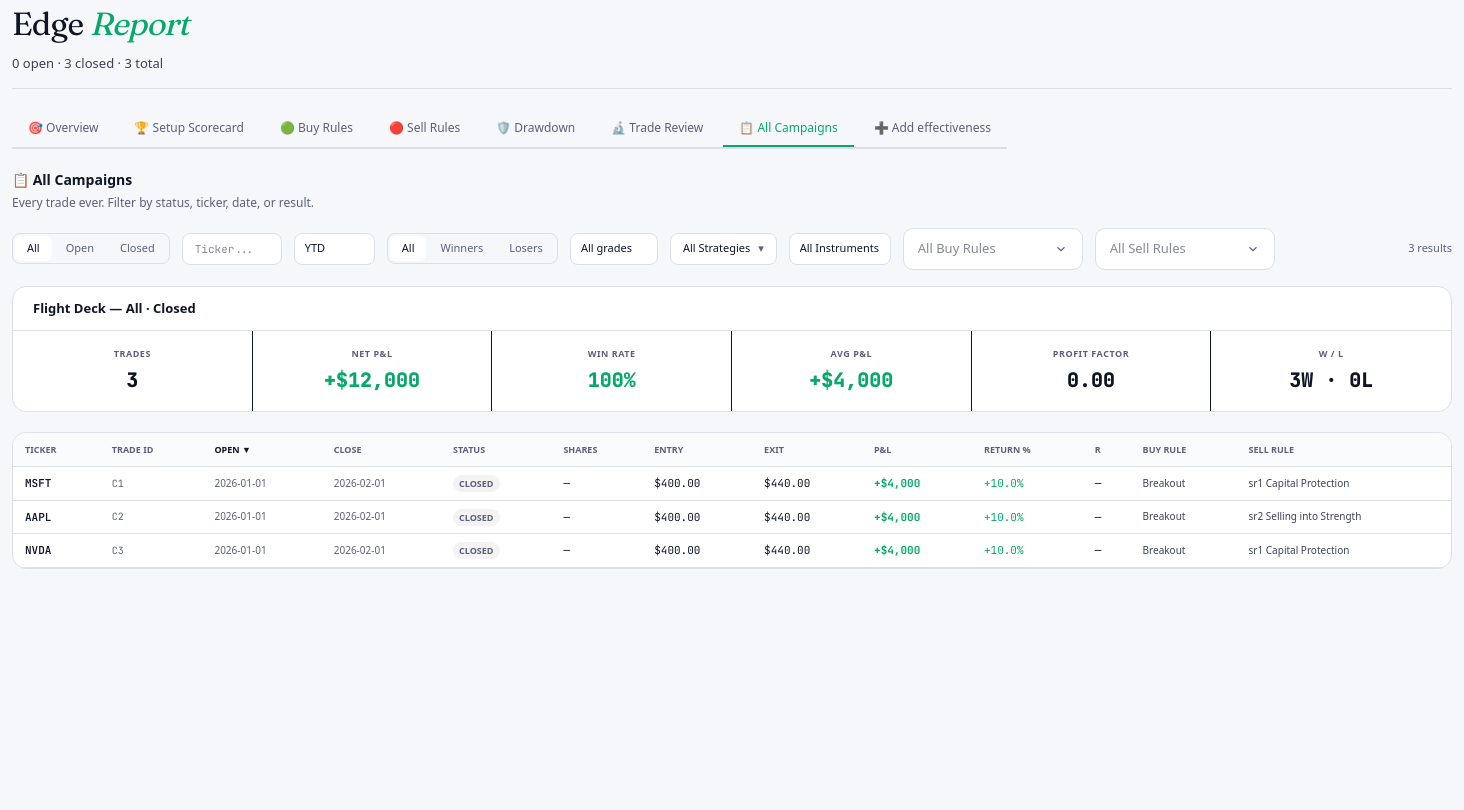
Analytics — All Campaigns filters › Sell Rule filter narrows visible rows
Expected: the text "MSFT" is shown, [13,466,100,500]
Note: Sell Rule filter is a SearchSelect (see Buy Rule note above).
Click the button "All Sell Rules".
click(1185, 248)  # box [1095,228,1275,270]
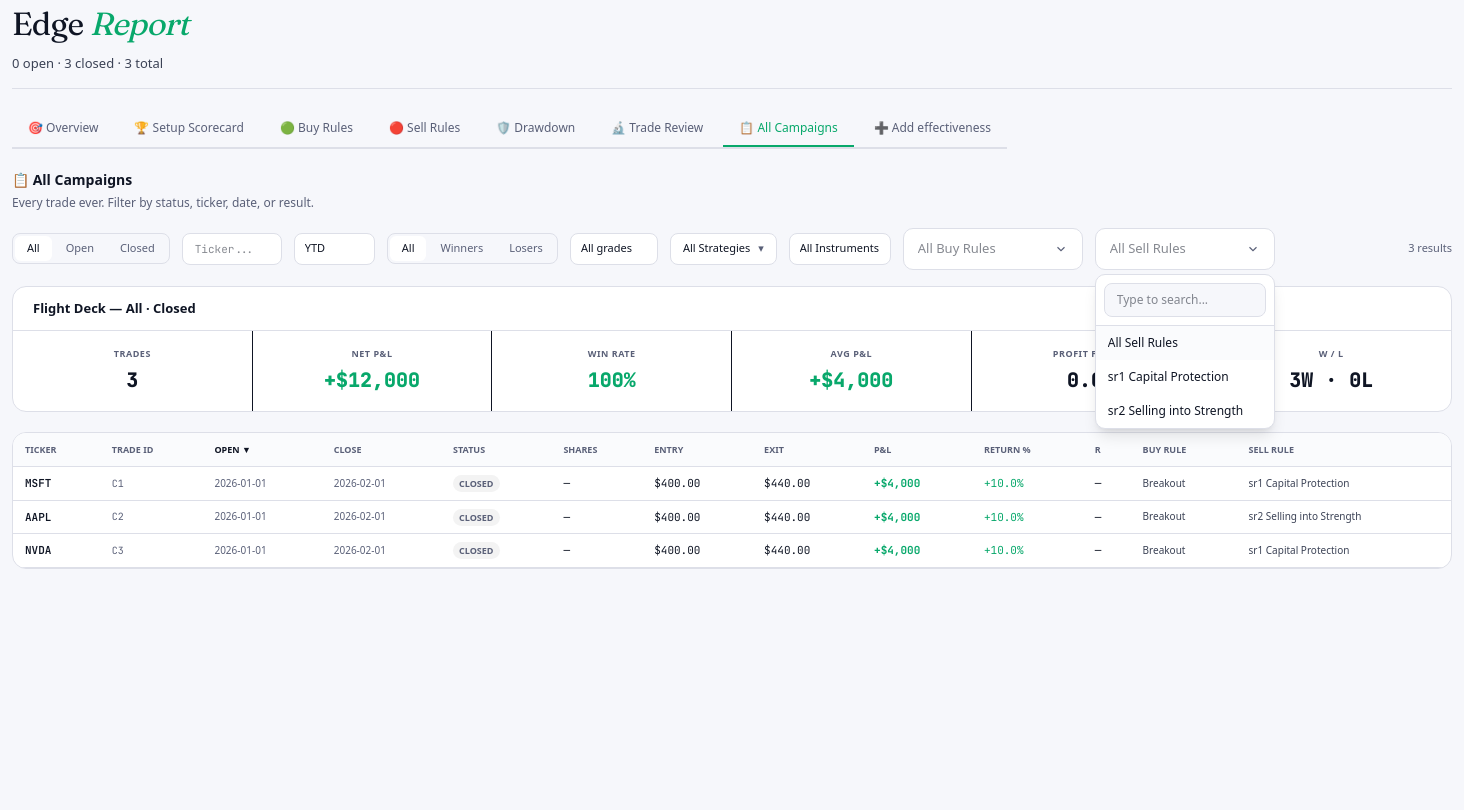
Click the button "sr1 Capital Protection".
click(1185, 376)  # box [1096,360,1274,394]
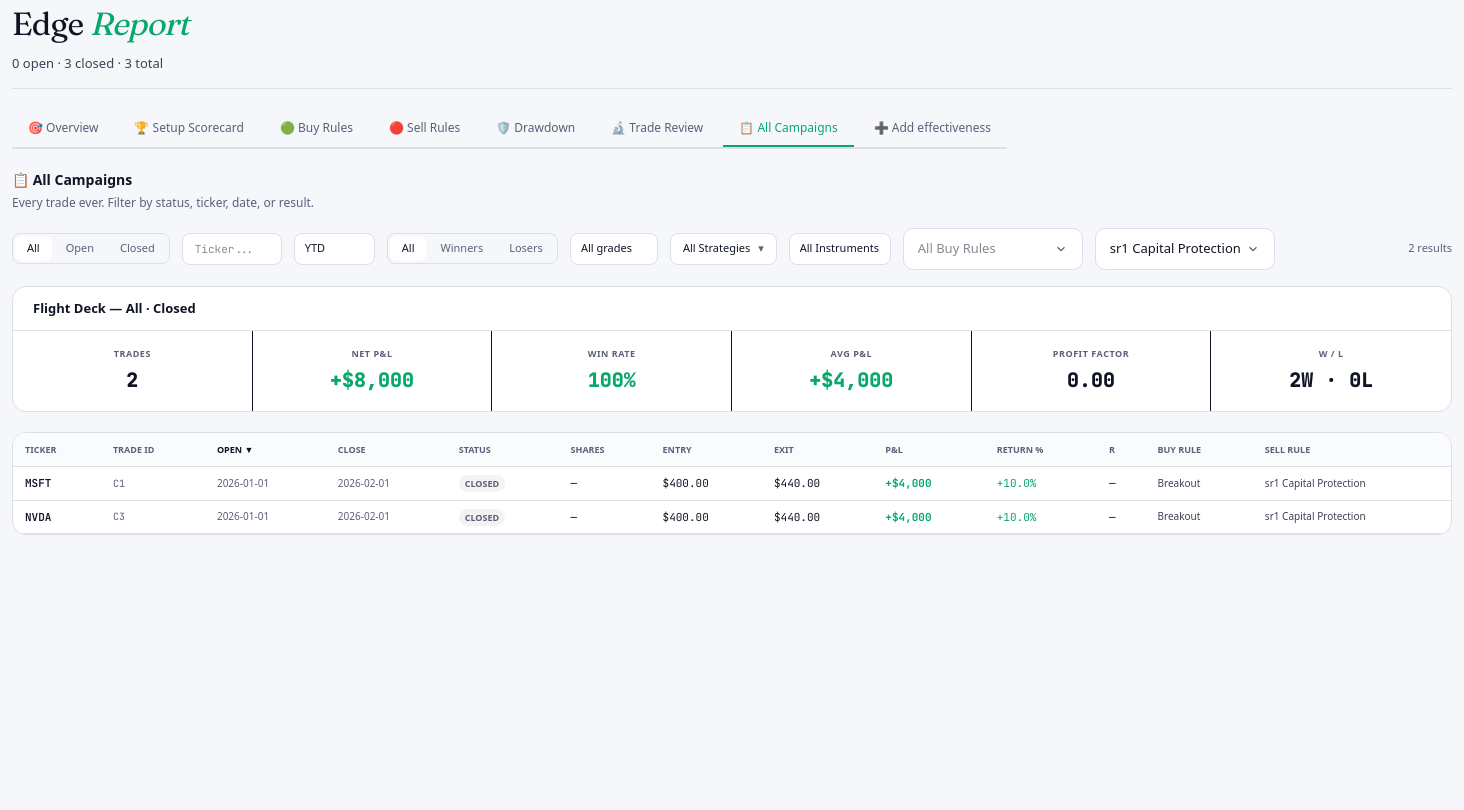
Expected: the text "MSFT" is shown, [13,466,101,500]
Now the text "AAPL" is gone
